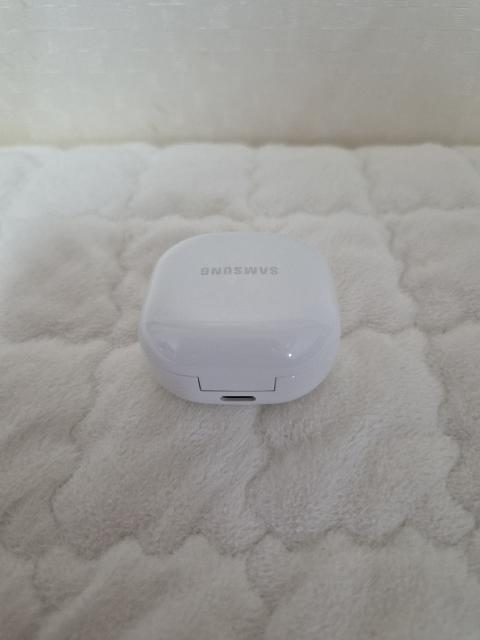earphone_case: (137, 232, 341, 405)
